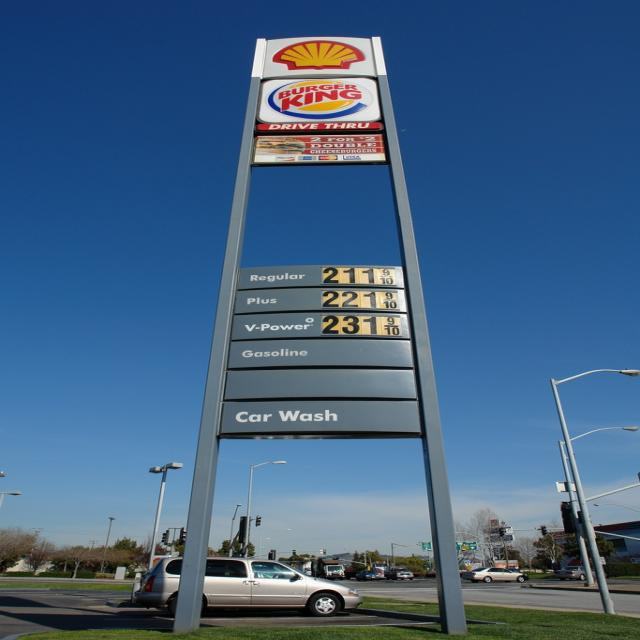shell: (272, 40, 365, 71)
